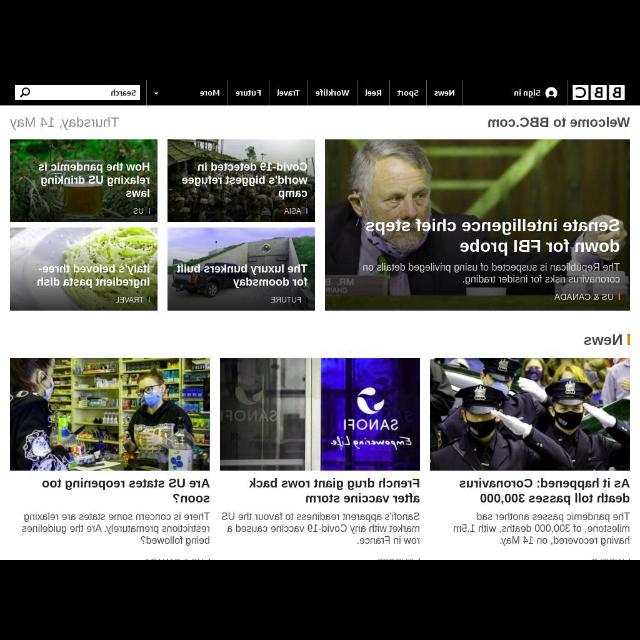backgroundimage: (326, 140, 628, 310), (11, 139, 158, 221), (11, 228, 158, 310), (168, 139, 314, 221), (168, 227, 314, 309)
icon: (544, 86, 558, 100), (20, 87, 30, 97), (152, 91, 160, 97)
image: (220, 358, 420, 470), (431, 358, 629, 470), (11, 358, 209, 470), (571, 84, 625, 102)
input: (15, 86, 140, 100)
spinner: (147, 81, 227, 105)
text: (366, 218, 618, 258), (20, 512, 210, 546), (222, 512, 420, 544), (452, 510, 630, 544), (363, 262, 621, 284), (458, 478, 630, 507), (42, 476, 210, 504), (182, 162, 308, 198), (250, 477, 420, 503), (39, 162, 150, 198), (176, 263, 308, 287), (37, 263, 151, 289), (8, 115, 118, 131), (488, 116, 630, 128), (554, 292, 614, 302), (584, 334, 622, 348), (271, 296, 303, 306), (513, 88, 541, 98), (316, 89, 350, 97), (236, 88, 262, 98), (111, 89, 137, 98), (276, 89, 300, 98), (117, 296, 143, 304), (398, 89, 418, 98), (364, 88, 382, 98), (433, 89, 455, 97), (199, 89, 221, 97), (284, 208, 302, 215)
toolbar: (1, 80, 639, 106)
